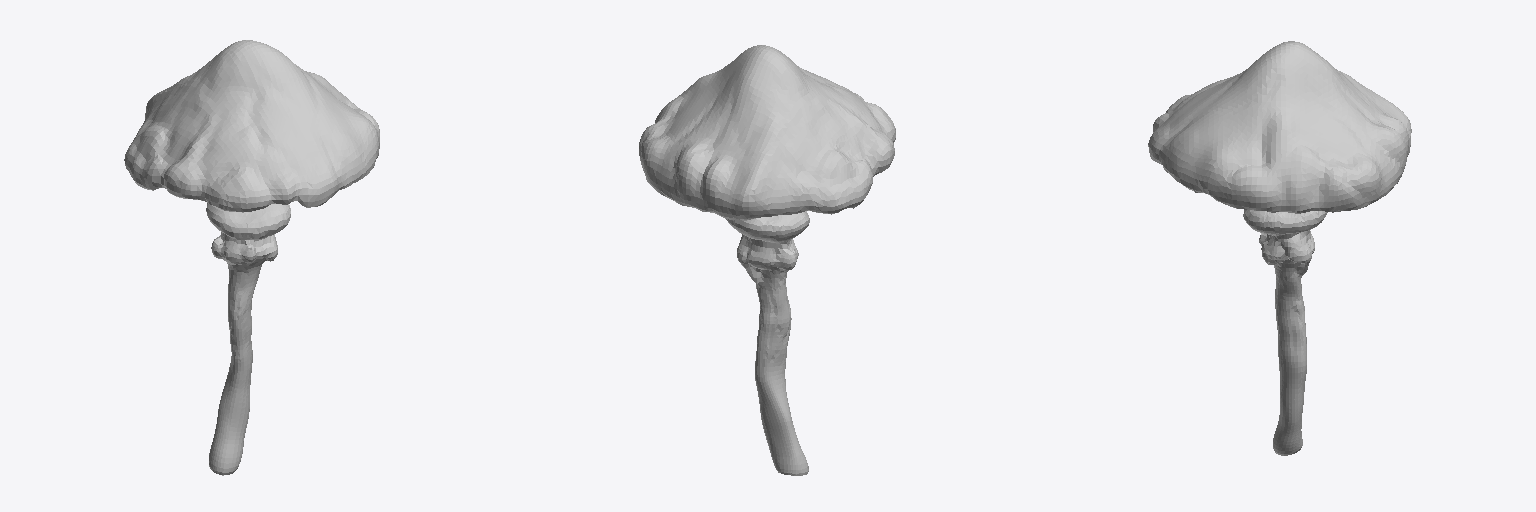
File: Mushroom_biggy_high.obj
The picture shows the model from 3 angles: view 1: azimuth 30°, elevation 25°; view 2: azimuth 150°, elevation 25°; view 3: azimuth 270°, elevation 25°; orthographic projection.
Parts seen in each view (by area): view 1: Group39559; view 2: Group39559; view 3: Group39559.
Part boxes in pixels (bbox=[...]): Group39559: bbox=[124, 40, 379, 475]; Group39559: bbox=[639, 45, 895, 475]; Group39559: bbox=[1148, 41, 1411, 455].
Size of the model in its own units: 0.6134 by 1.15 by 0.6483.